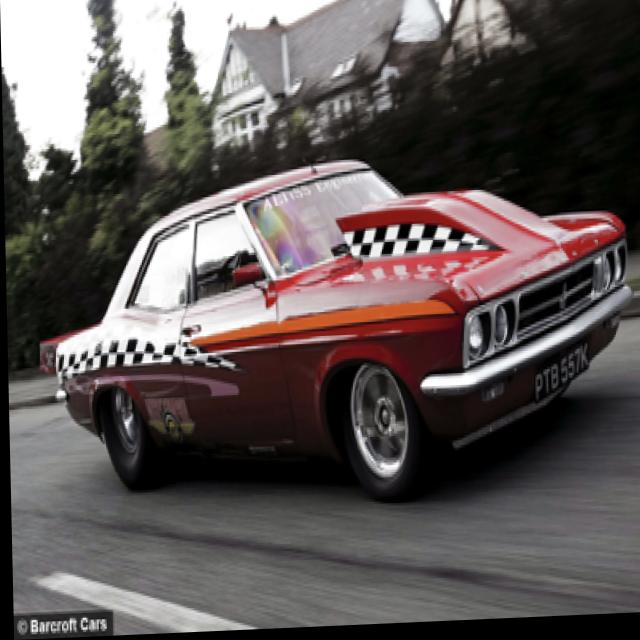licence: (533, 342, 591, 408)
